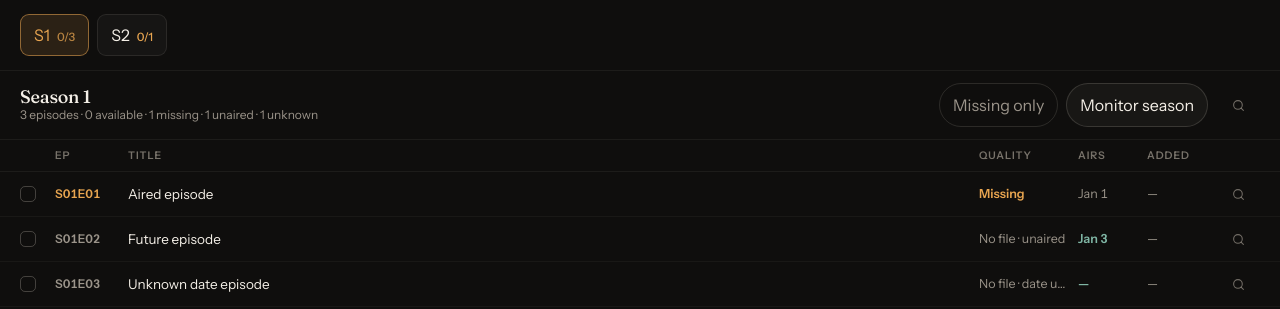
TvEpisodeTable › keeps future and unknown-date episodes out of Missing only
Check: the text "Aired episode" is shown, box [128,184,214,204]
Click the button "Missing only".
click(999, 105)  # box [939,83,1058,127]
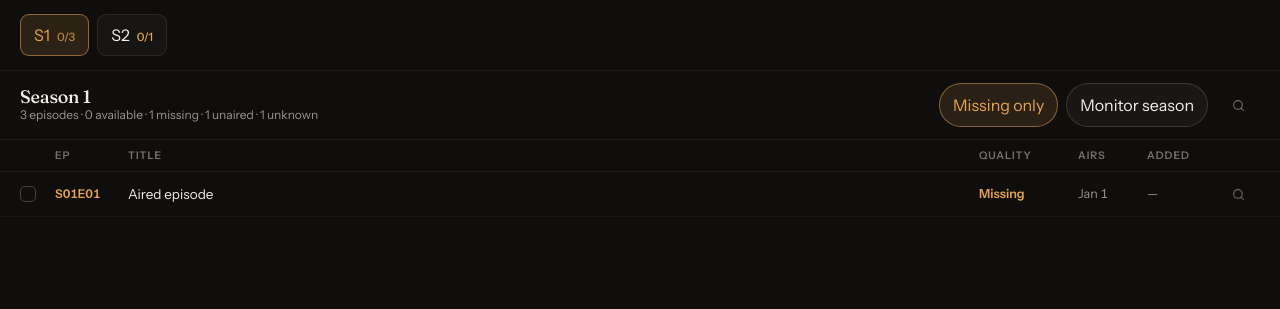
Check: the text "Aired episode" is shown, box [128,184,214,204]
Check: the text "Future episode" is gone
Check: the text "Unknown date episode" is gone
